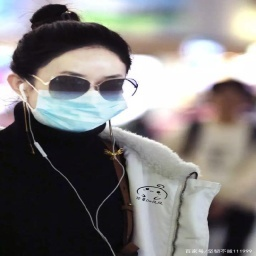correctlyWear: (6, 62, 138, 133)
